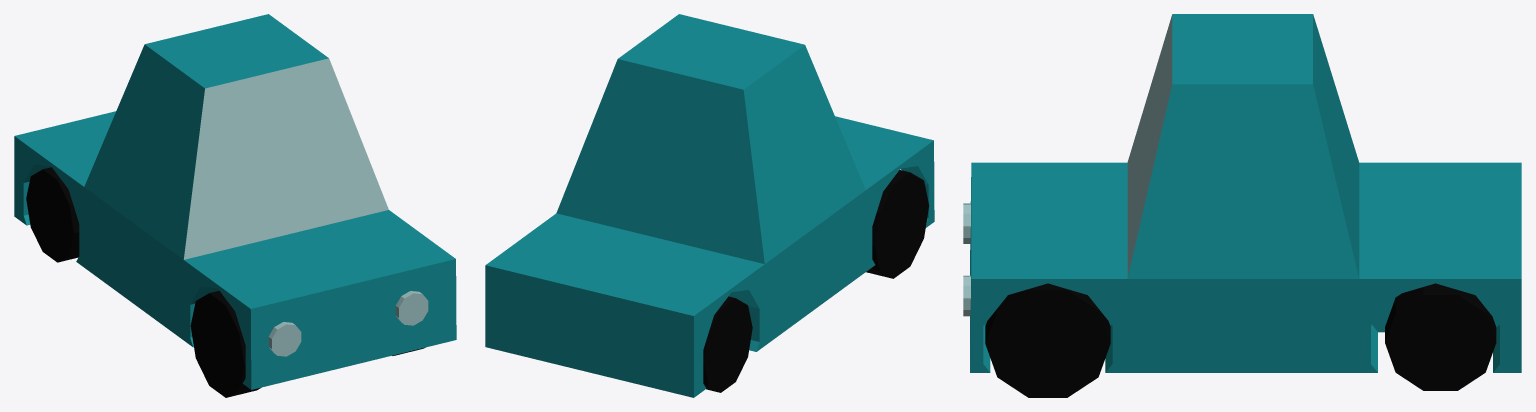
Rendered from shittyCar.fbx.
3 views of the same model, side by side, from view 1: azimuth 30°, elevation 25°; view 2: azimuth 150°, elevation 25°; view 3: azimuth 270°, elevation 25° (orthographic). The views are drawn at different scales.
Parts seen in each view (by area): view 1: Cube; view 2: Cube; view 3: Cube.
Boxes of the visible parts, bbox=[...] form: Cube: bbox=[14, 14, 456, 397]; Cube: bbox=[485, 14, 934, 397]; Cube: bbox=[963, 14, 1521, 397].
Bounding box in the file's own units: 201 × 236 × 405.
